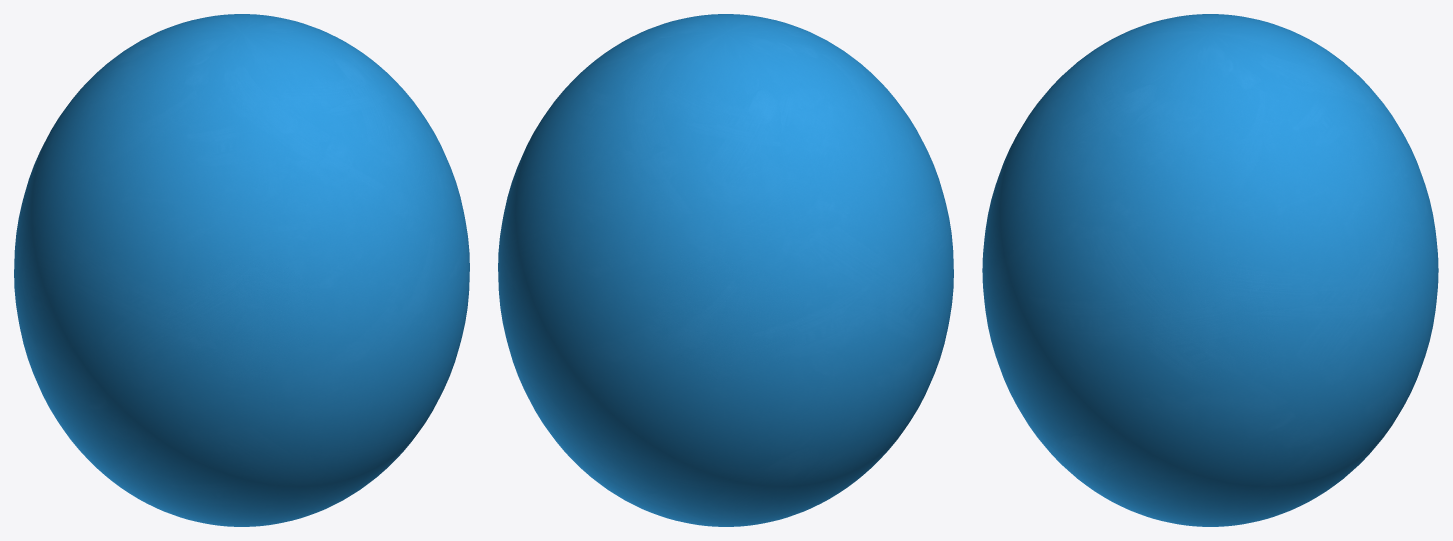
Rendered from baloon.glb.
3 renders of one model, left to right at view 1: azimuth 30°, elevation 25°; view 2: azimuth 150°, elevation 25°; view 3: azimuth 270°, elevation 25°, orthographic.
Parts seen in each view (by area): view 1: Balloon; view 2: Balloon; view 3: Balloon.
Boxes of the visible parts, x1=… form: Balloon: x1=14, y1=14, x2=469, y2=526; Balloon: x1=498, y1=14, x2=953, y2=526; Balloon: x1=982, y1=14, x2=1438, y2=526.
Bounding box in the file's own units: 2 × 2.38 × 2.
2 materials, 1 textured.
